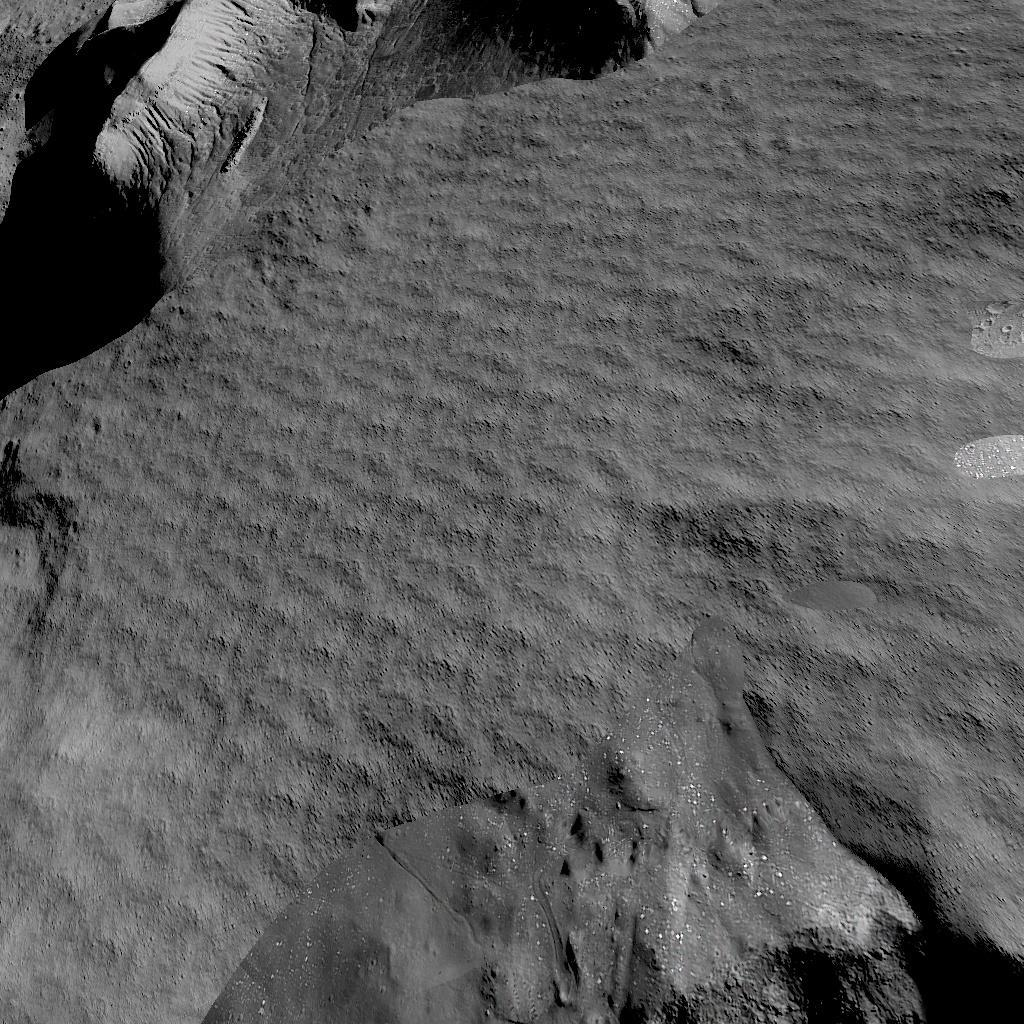Boulders: (0, 0, 727, 418)
Crater: (206, 808, 1024, 1024)
Plan surface: (0, 430, 1024, 795), (741, 0, 1024, 415), (0, 808, 188, 1024)
